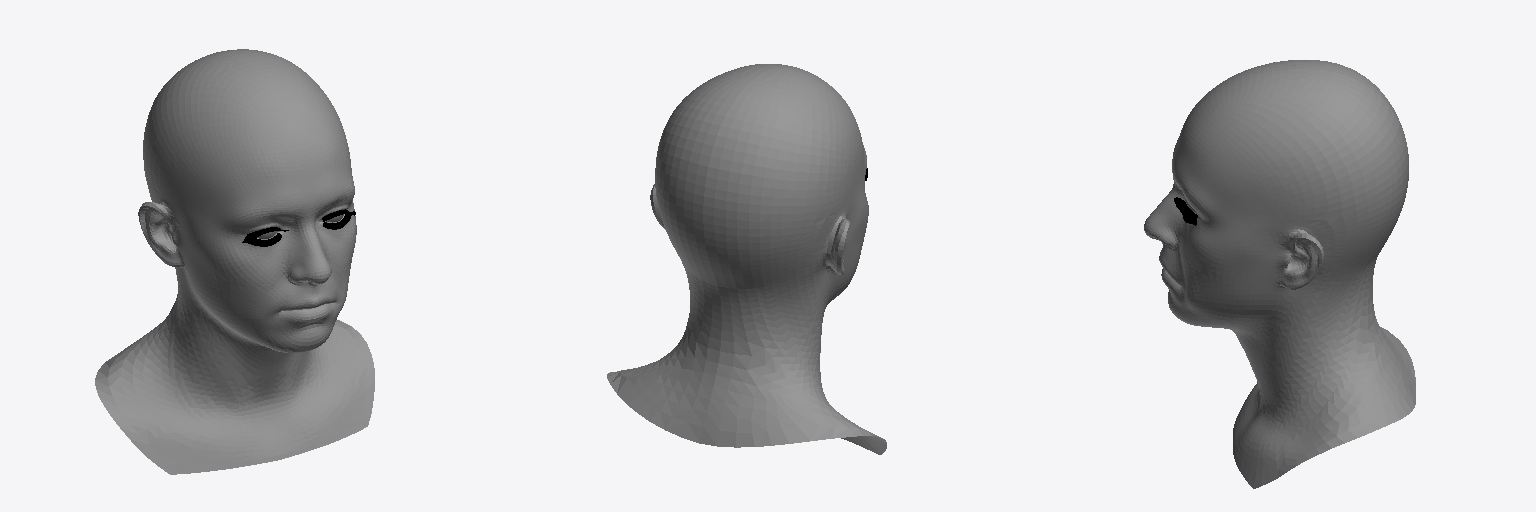
The model's file is mouthFrown_L.obj.
The picture shows the model from 3 angles: view 1: azimuth 30°, elevation 25°; view 2: azimuth 150°, elevation 25°; view 3: azimuth 270°, elevation 25°; orthographic projection.
Bounding box in the file's own units: 24.83 × 33.81 × 22.31.